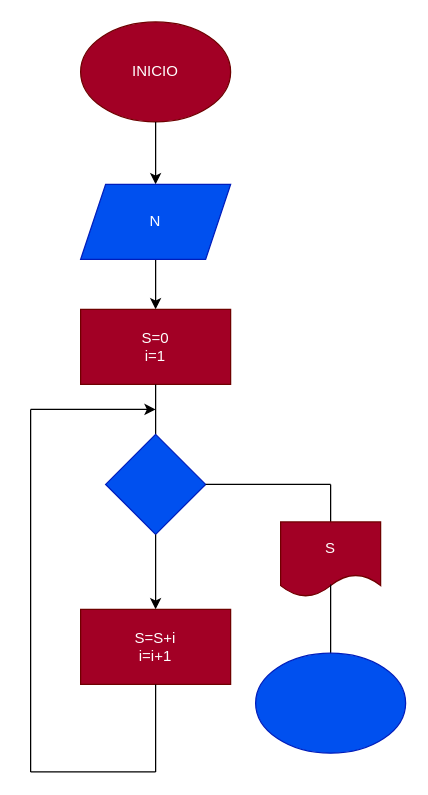
Some shapes in this 428 by 795 pixel diagram are drawn without their labels. Each missing label, with the box of its shape:
FIN: (254, 652, 406, 753)
i<=n: (104, 433, 206, 534)
